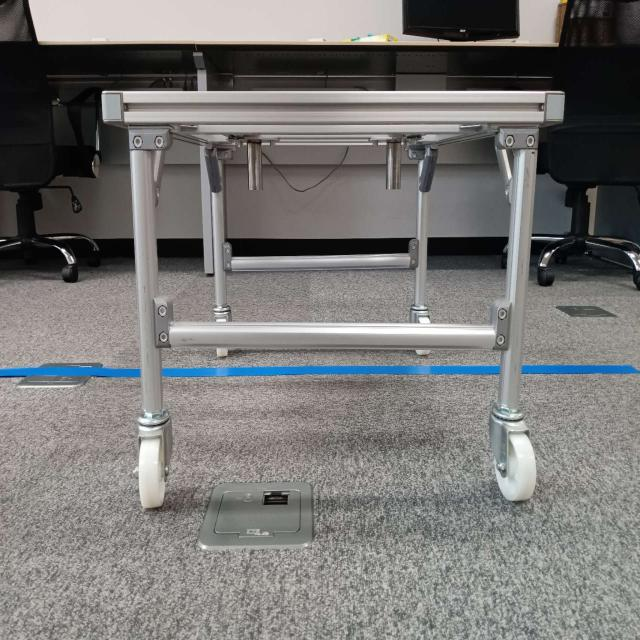side: (115, 89, 527, 356)
